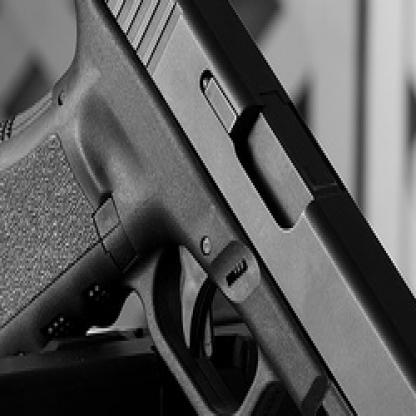gun: (0, 0, 415, 414), (0, 331, 306, 413)
